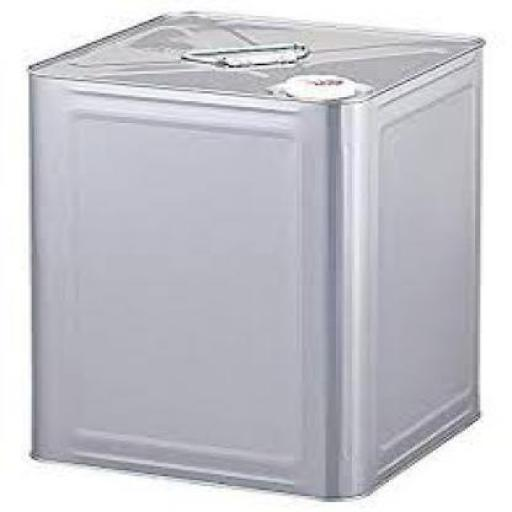metal: (27, 8, 478, 500)
